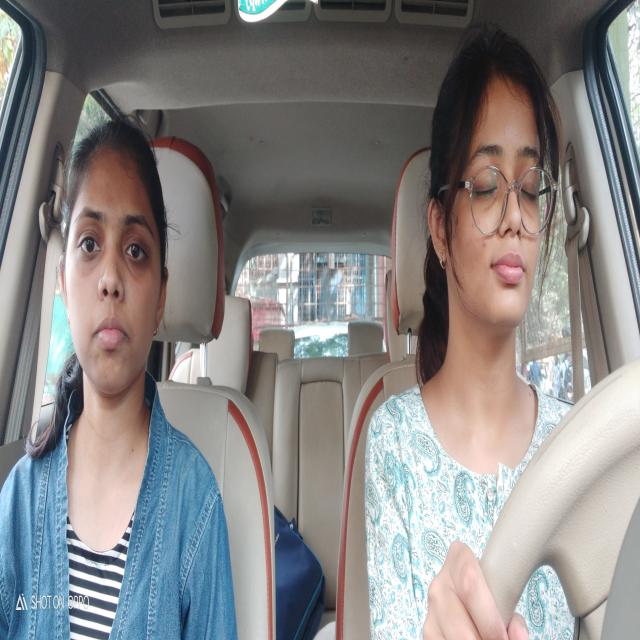drowsy: (432, 48, 546, 324)
person: (52, 133, 170, 395)
